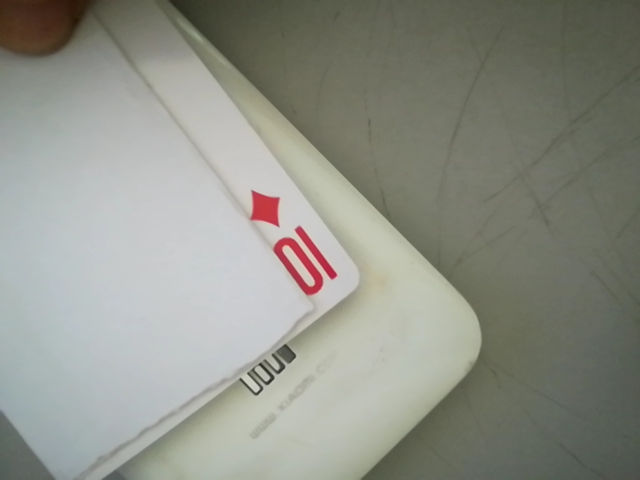fk 10: (234, 181, 354, 312)
